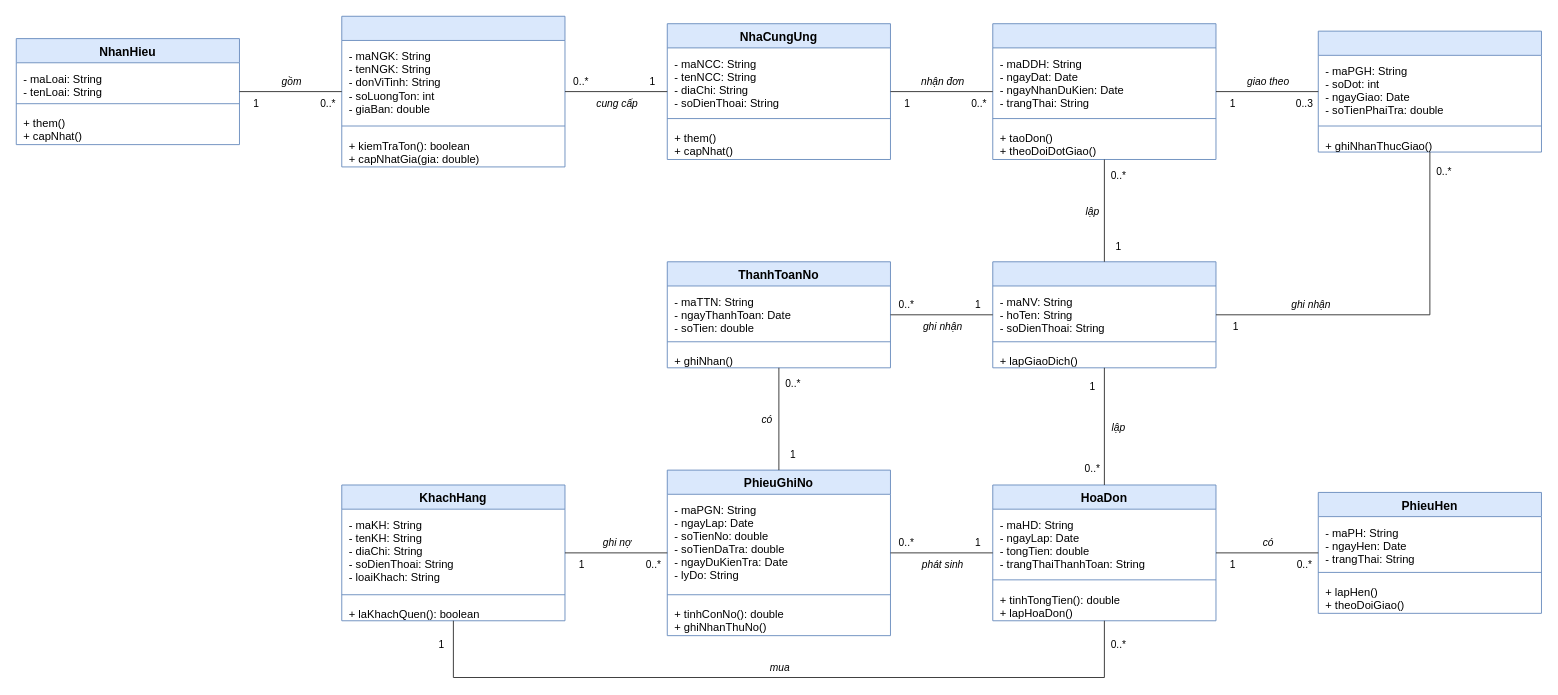
Image size: 1558x695. Some labels were removed from this diagram. Each missing label, with the box of its shape:
DonDatHang: (992, 23, 1216, 159)
NhanVien: (992, 261, 1216, 368)
NuocGiaiKhat: (341, 15, 565, 167)
PhieuGiaoHang: (1317, 30, 1541, 152)
